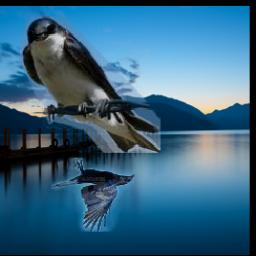Crow: (52, 158, 135, 232)
Swallow: (20, 17, 161, 153)
